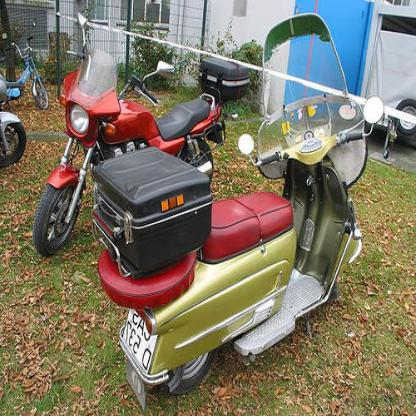motorbike: (98, 11, 387, 410), (34, 11, 253, 258), (2, 19, 53, 113)
